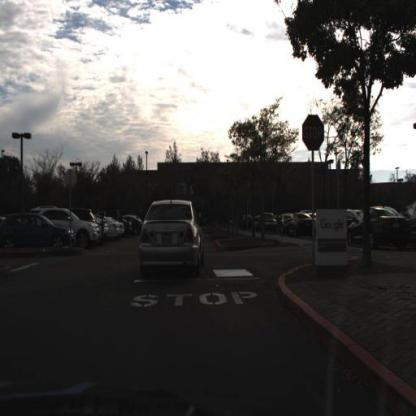car: (137, 196, 207, 274), (349, 204, 410, 251), (1, 214, 77, 250), (284, 210, 318, 240), (77, 217, 102, 246)
